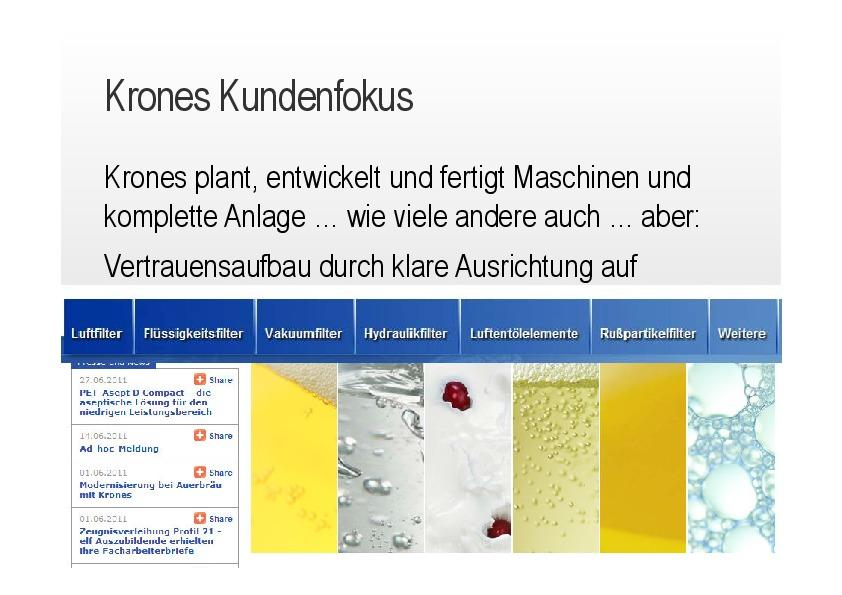paragraph: (60, 154, 791, 352)
title: (92, 70, 436, 129)
